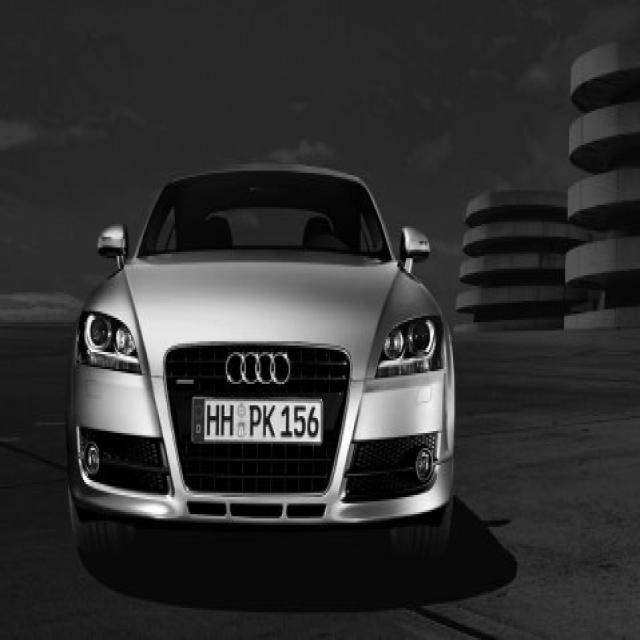car: (64, 160, 456, 580)
plat_license: (190, 395, 324, 446)
